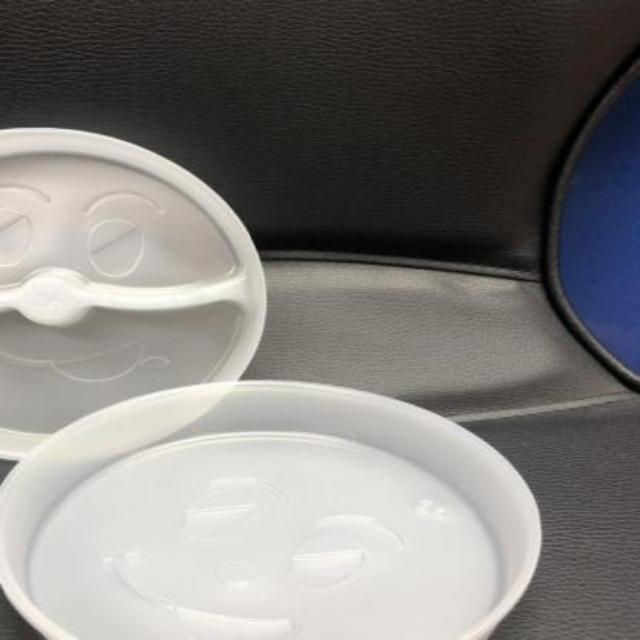plastic_box: (1, 382, 542, 638)
